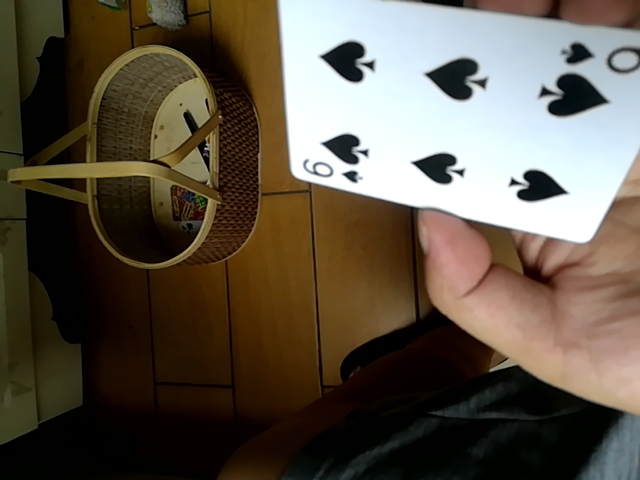ht 6: (276, 0, 635, 251)
